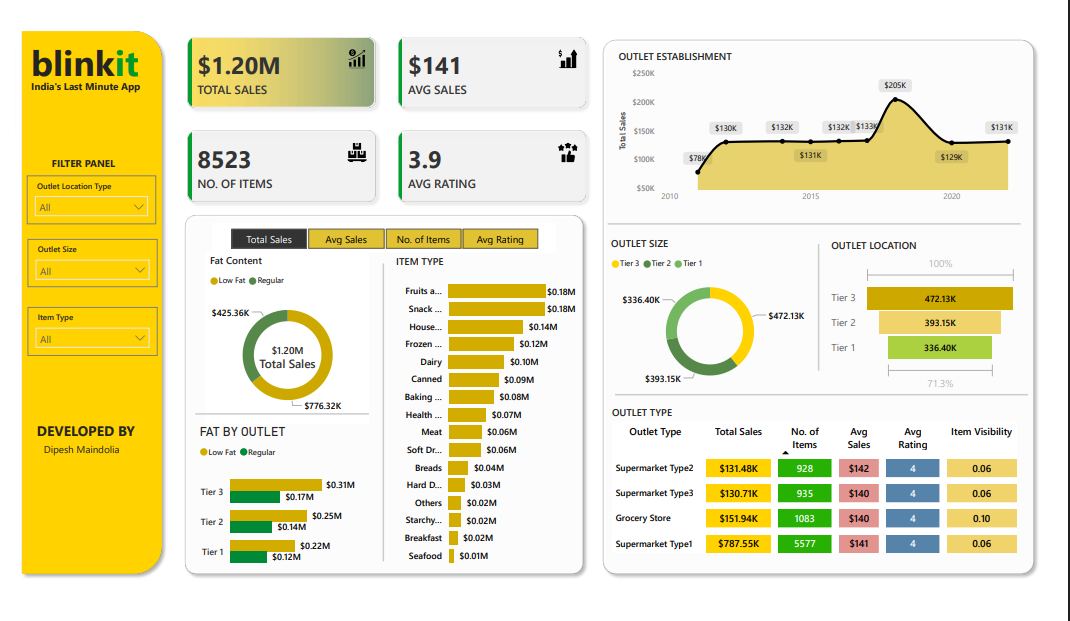

Layout of this report page (visuals, bound fields, positions):
{"tool":"powerbi","page":{"name":"Page 1","canvas":[1400,800],"ordinal":0},"visuals":[{"type":"shape","box":[0,12.9,205.7,750],"z":0},{"type":"textbox","box":[15.7,24.3,205.7,95.7],"z":1000},{"type":"textbox","box":[15.7,81.4,205.7,38.6],"z":2000},{"type":"cardVisual","fields":{"Data":["BlinkIT Grocery Data.Total Sales","BlinkIT Grocery Data.Avg Sales","BlinkIT Grocery Data.No. of Items","BlinkIT Grocery Data.Avg Rating"]},"box":[204.3,0,597.1,281.4],"z":3000},{"type":"shape","box":[221.4,261.4,554.3,501.4],"z":4000},{"type":"donutChart","title":"Fat Content","fields":{"Y":["BlinkIT Grocery Data.Total Sales"],"Category":["BlinkIT Grocery Data.Item Fat Content"]},"box":[258.2,322.4,219.4,229.9],"z":5000},{"type":"slicer","fields":{"Values":["Metrics.Metrics"]},"box":[265.7,281.4,465.7,40],"z":6000},{"type":"cardVisual","fields":{"Data":["BlinkIT Grocery Data.Total Sales"]},"box":[298.2,411.8,140,100],"z":7000},{"type":"clusteredBarChart","title":"FAT BY OUTLET ","fields":{"Y":["BlinkIT Grocery Data.Total Sales"],"Category":["BlinkIT Grocery Data.Outlet Location Type"],"Series":["BlinkIT Grocery Data.Item Fat Content"]},"box":[244,552.3,219.8,210.5],"z":8000},{"type":"shape","box":[243.3,511.7,235,53.3],"z":9000},{"type":"shape","box":[470,335,55,403.3],"z":10000},{"type":"barChart","title":"ITEM TYPE","fields":{"Y":["BlinkIT Grocery Data.Total Sales"],"Category":["BlinkIT Grocery Data.Item Type"]},"box":[510,322.9,252.9,431.4],"z":11000},{"type":"shape","box":[787.1,24.3,598.6,738.6],"z":12000},{"type":"lineChart","title":"OUTLET ESTABLISHMENT","fields":{"Y":["BlinkIT Grocery Data.Total Sales"],"Category":["BlinkIT Grocery Data.Outlet Establishment Year"]},"box":[811.4,45.7,548.6,215.7],"z":13000},{"type":"shape","box":[801.4,254.3,558.6,54.3],"z":14000},{"type":"donutChart","title":"OUTLET SIZE","fields":{"Y":["BlinkIT Grocery Data.Total Sales"],"Category":["BlinkIT Grocery Data.Outlet Location Type"]},"box":[801.2,298.8,276.2,212.5],"z":15000},{"type":"shape","box":[1058.8,308.8,55,171.2],"z":16000},{"type":"funnel","title":"OUTLET LOCATION","fields":{"Y":["Sum(BlinkIT Grocery Data.Sales)"],"Category":["BlinkIT Grocery Data.Outlet Location Type"]},"box":[1098.8,301.2,261.2,210],"z":17000},{"type":"shape","box":[811.2,485,558.8,55],"z":18000},{"type":"pivotTable","title":"OUTLET TYPE","fields":{"Rows":["BlinkIT Grocery Data.Outlet Type"],"Values":["BlinkIT Grocery Data.Total Sales","BlinkIT Grocery Data.No. of Items","BlinkIT Grocery Data.Avg Sales","BlinkIT Grocery Data.Avg Rating","Avg(BlinkIT Grocery Data.Item Visibility)"]},"box":[801.6,526.8,559,211.8],"z":19000},{"type":"slicer","fields":{"Values":["BlinkIT Grocery Data.Outlet Location Type"]},"box":[14.7,215.8,175.6,65.7],"z":20000},{"type":"slicer","fields":{"Values":["BlinkIT Grocery Data.Outlet Size"]},"box":[16.1,301.6,175.6,65.7],"z":21000},{"type":"slicer","fields":{"Values":["BlinkIT Grocery Data.Item Type"]},"box":[16.1,394.1,175.6,65.7],"z":22000},{"type":"textbox","box":[44.3,185.7,120,40],"z":23000},{"type":"textbox","box":[15.7,542.9,158.6,41.4],"z":24000},{"type":"textbox","box":[33.1,571.5,139.2,40.8],"z":24001}]}

Visuals, with their boxes in screenshot pixels (x1, y1, x2, y2), scaled from the page's 1400x800 canvas onto the 1070x621 screenshot:
shape: crop(0, 10, 157, 592)
textbox: crop(12, 19, 169, 93)
textbox: crop(12, 63, 169, 93)
cardVisual - BlinkIT Grocery Data.Total Sales x BlinkIT Grocery Data.Avg Sales: crop(156, 0, 612, 218)
shape: crop(169, 203, 593, 592)
"Fat Content" donutChart: crop(197, 250, 365, 429)
slicer - Metrics.Metrics: crop(203, 218, 559, 249)
cardVisual - BlinkIT Grocery Data.Total Sales: crop(228, 320, 335, 397)
"FAT BY OUTLET " clusteredBarChart: crop(186, 429, 354, 592)
shape: crop(186, 397, 366, 439)
shape: crop(359, 260, 401, 573)
"ITEM TYPE" barChart: crop(390, 251, 583, 586)
shape: crop(602, 19, 1059, 592)
"OUTLET ESTABLISHMENT" lineChart: crop(620, 35, 1039, 203)
shape: crop(612, 197, 1039, 240)
"OUTLET SIZE" donutChart: crop(612, 232, 823, 397)
shape: crop(809, 240, 851, 373)
"OUTLET LOCATION" funnel: crop(840, 234, 1039, 397)
shape: crop(620, 376, 1047, 419)
"OUTLET TYPE" pivotTable: crop(613, 409, 1040, 573)
slicer - BlinkIT Grocery Data.Outlet Location Type: crop(11, 168, 145, 219)
slicer - BlinkIT Grocery Data.Outlet Size: crop(12, 234, 147, 285)
slicer - BlinkIT Grocery Data.Item Type: crop(12, 306, 147, 357)
textbox: crop(34, 144, 126, 175)
textbox: crop(12, 421, 133, 454)
textbox: crop(25, 444, 132, 475)
